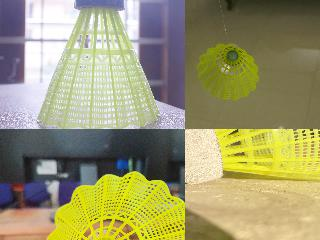shuttlecock: (36, 0, 160, 128), (46, 171, 184, 239), (185, 129, 319, 185), (196, 44, 258, 100)
